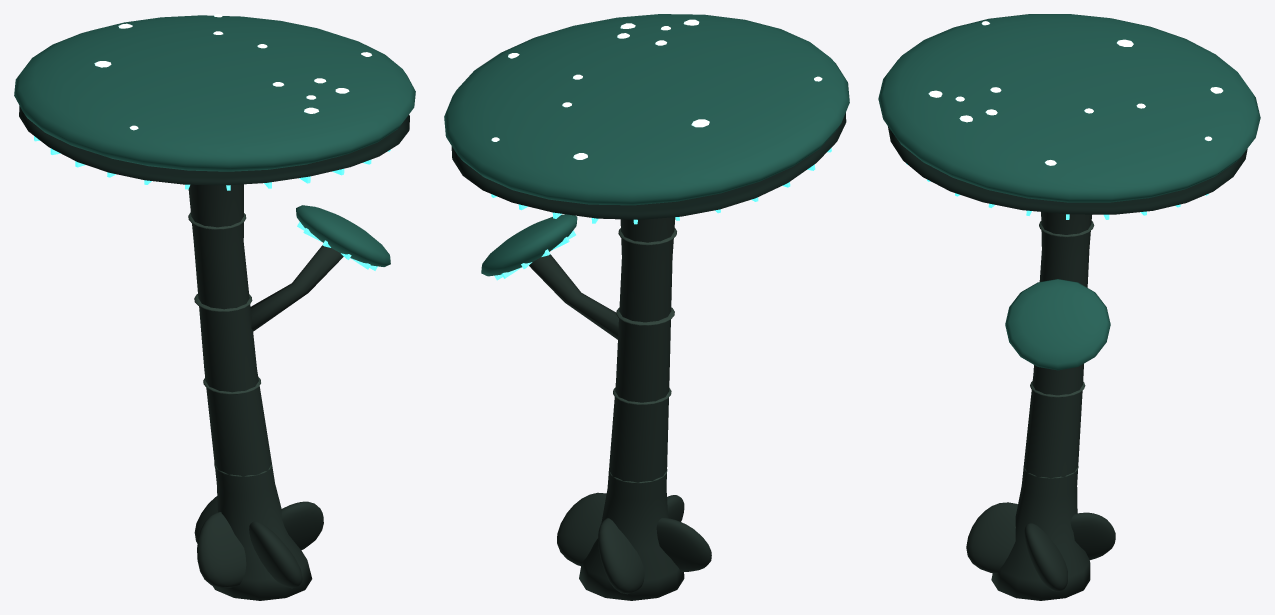
The model's file is prop_fungus_1.glb.
3 views of the same model, side by side, from view 1: azimuth 30°, elevation 25°; view 2: azimuth 150°, elevation 25°; view 3: azimuth 270°, elevation 25° (orthographic). The views are drawn at different scales.
Parts seen in each view (by area): view 1: cap_dome, buttress0, cap_under, scar0, gill0, spot0; view 2: cap_dome, buttress0, cap_under, scar0, spot0, gill0; view 3: cap_dome, buttress0, cap_under, spot0, scar0.
Boxes of the visible parts, <box> form: cap_dome: <box>14,15,415,266</box>; buttress0: <box>188,184,343,600</box>; cap_under: <box>19,106,409,185</box>; scar0: <box>188,212,272,476</box>; gill0: <box>34,136,390,270</box>; spot0: <box>94,14,371,130</box>; cap_dome: <box>444,14,849,276</box>; buttress0: <box>529,217,711,600</box>; cap_under: <box>451,112,846,219</box>; scar0: <box>608,228,676,483</box>; spot0: <box>491,19,822,159</box>; gill0: <box>491,148,831,280</box>; cap_dome: <box>878,14,1260,370</box>; buttress0: <box>966,212,1115,600</box>; cap_under: <box>888,126,1247,214</box>; spot0: <box>928,21,1223,165</box>; scar0: <box>1023,221,1094,478</box>.
Bounding box in the file's own units: 5.79 × 8.2 × 5.79.
